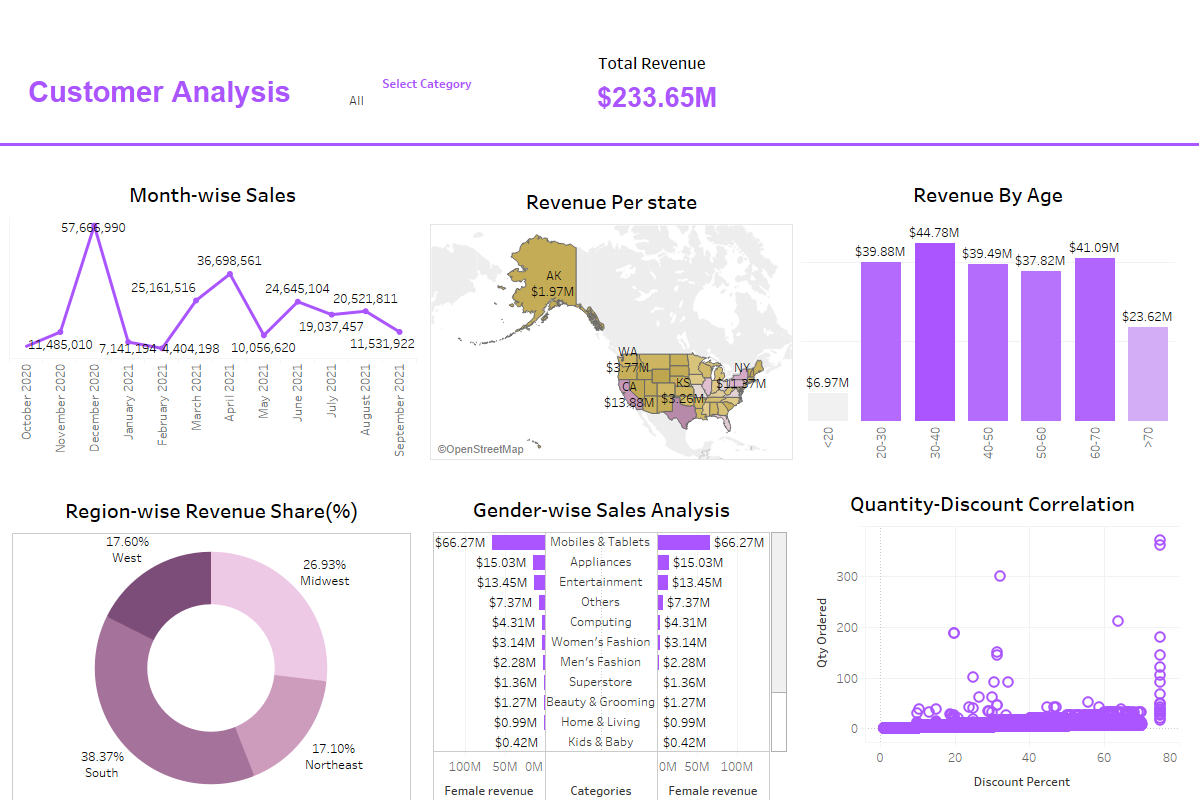

What the dashboard file says about the page in this screenshot:
{"tool":"tableau","page":{"name":"Dashboard 1","canvas":[1200,800],"ordinal":0},"visuals":[{"type":"worksheet","title":"Total Revenue","mark":"Automatic","box":[582,46,408,76]},{"type":"text","box":[4,57,311,71]},{"type":"filter","title":"revenue per category","param":"[federated.1qf4vpk00p96m3194jvvy17omufi].[none:category:nk]","box":[347,74,160,42]},{"type":"worksheet","title":"revenue per month","mark":"Automatic","rows":["total"],"cols":["month"],"box":[9,174,407,284]},{"type":"worksheet","title":"Revenue by age","mark":"Automatic","rows":["total"],"cols":["Age (bin)"],"box":[801,174,374,287]},{"type":"worksheet","title":"Revenue per state","mark":"Automatic","box":[430,181,363,279]},{"type":"worksheet","title":"quantity -discount relation","mark":"Automatic","rows":["qty_ordered"],"cols":["Discount_Percent"],"box":[806,483,373,314]},{"type":"worksheet","title":"Revenue  by Region","mark":"Pie","rows":["Calculation_137359842816344067","Calculation_137359842816344067"],"box":[12,490,399,314]}]}

Visuals, with their boxes in screenshot pixels (x1, y1, x2, y2), scaled from the page's 1200x800 canvas onto the 1200x800 screenshot:
"Total Revenue" worksheet: (582,46,990,122)
text: (4,57,315,128)
"revenue per category" filter: (347,74,507,116)
"revenue per month" worksheet: (9,174,416,458)
"Revenue by age" worksheet: (801,174,1175,461)
"Revenue per state" worksheet: (430,181,793,460)
"quantity -discount relation" worksheet: (806,483,1179,797)
"Revenue  by Region" worksheet (Pie marks): (12,490,411,799)
